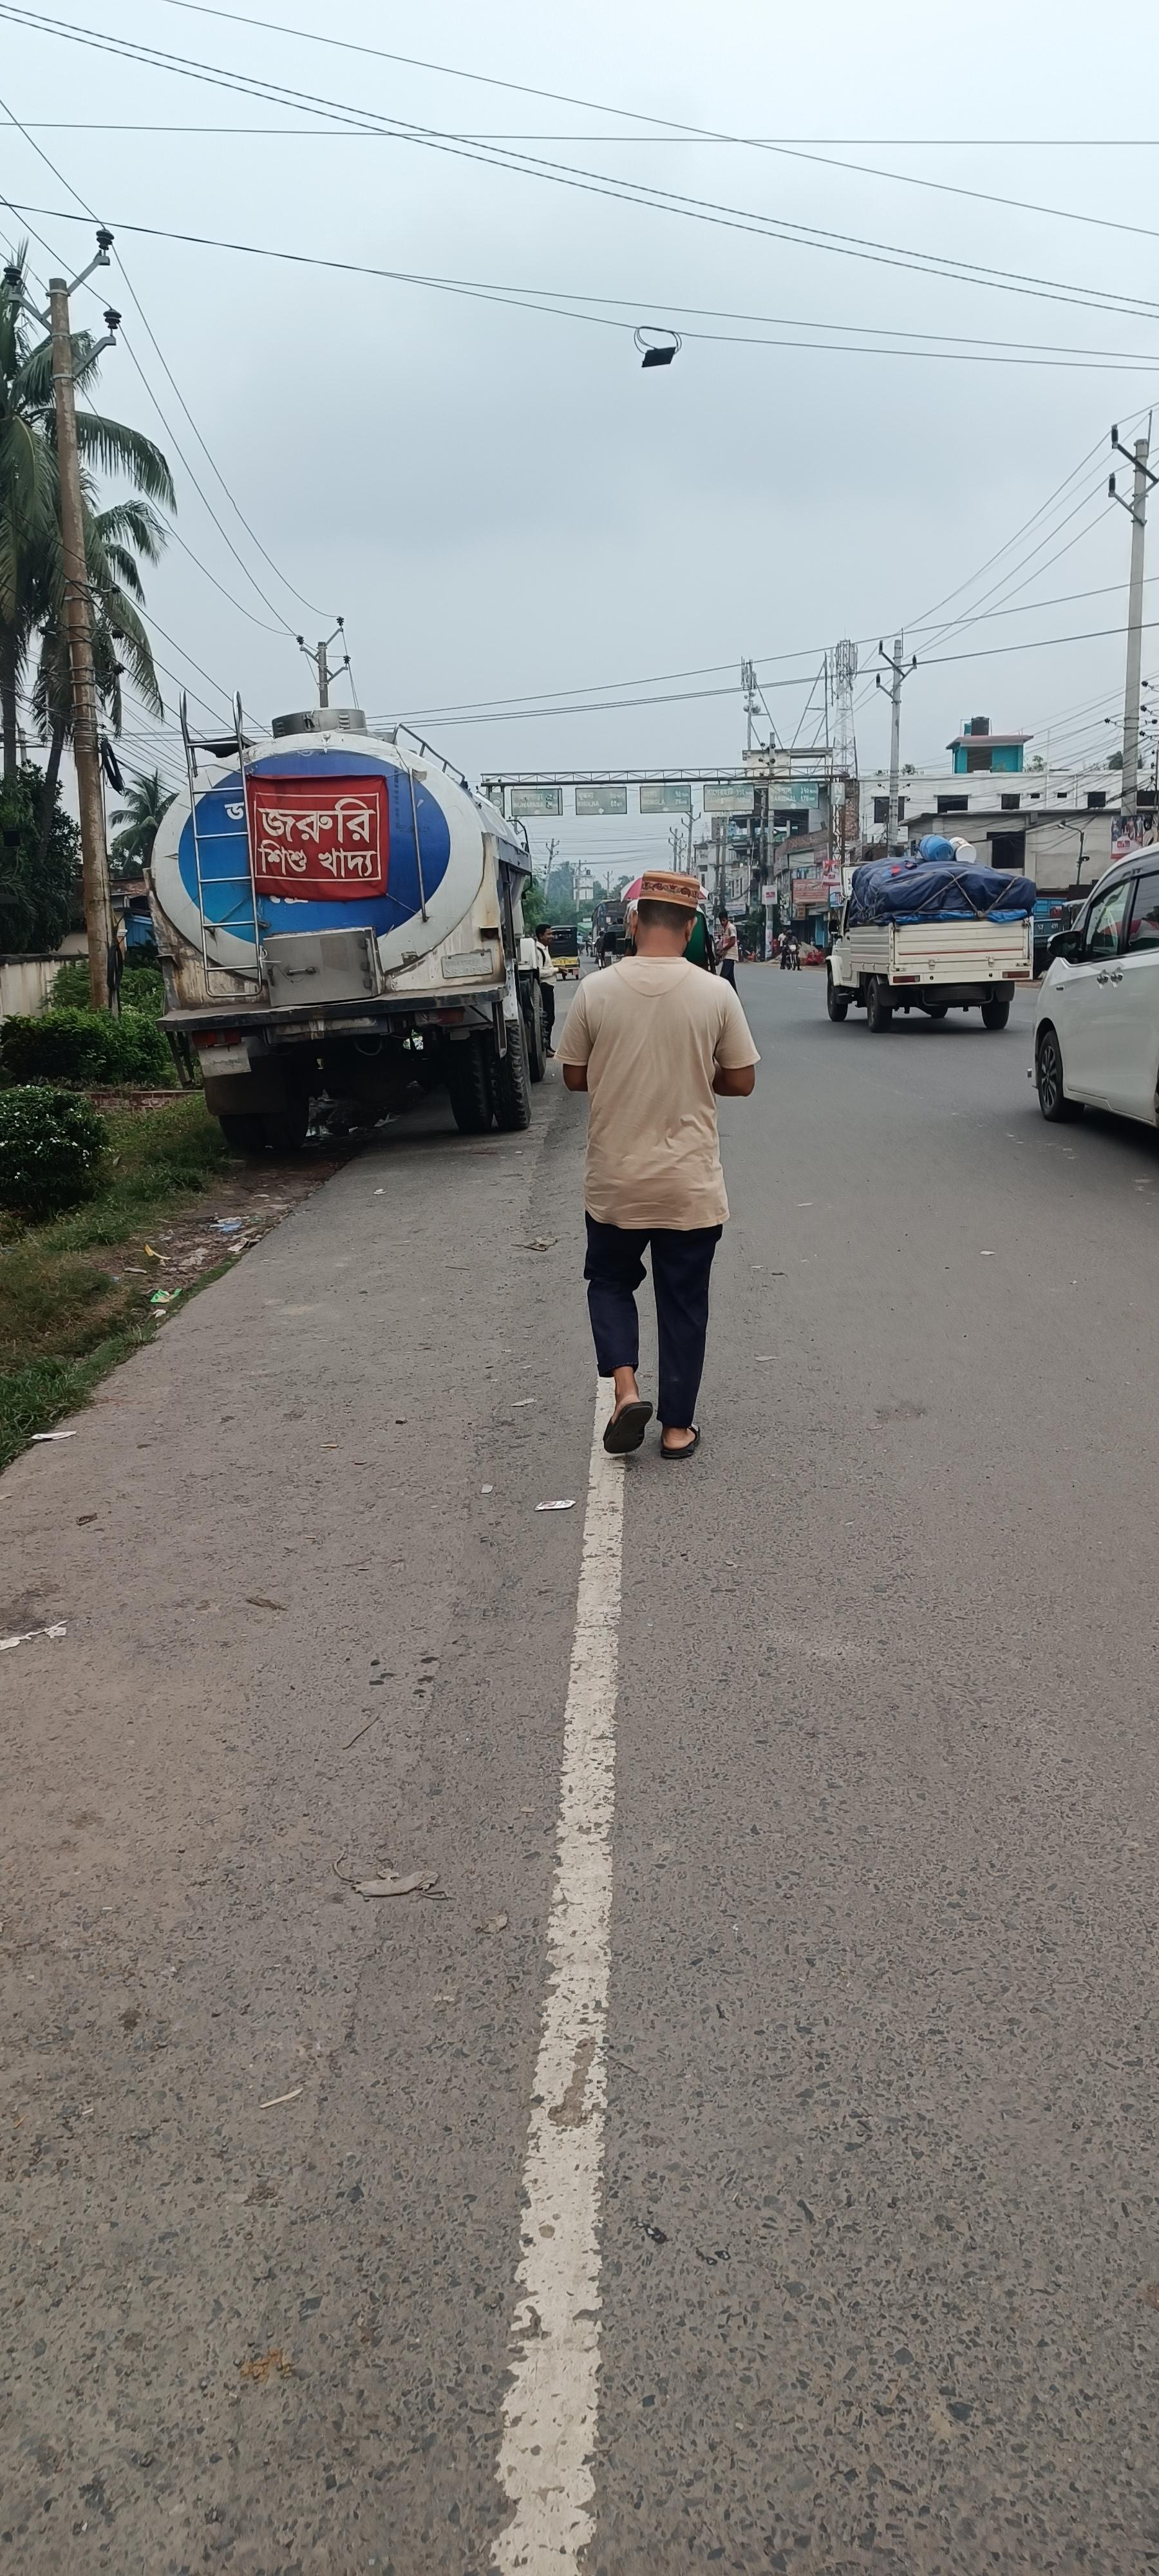Garbage-bin: (557, 869, 763, 1459), (532, 925, 560, 1055)
Light-pole: (43, 276, 115, 1014)
Traffic-cone: (146, 698, 557, 1152), (928, 858, 1159, 1140)
